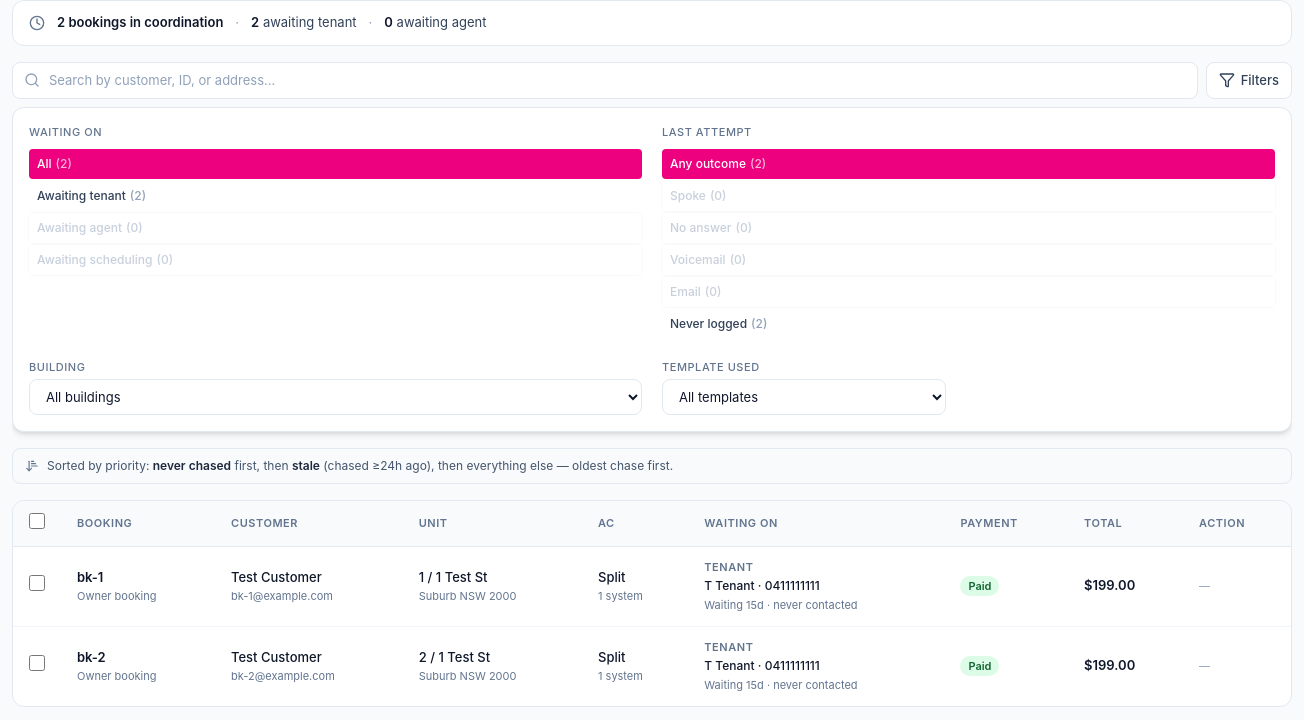
Test case: AwaitingCoordinationView · bulk template picker keyboard nav › Enter on the highlighted option commits the selection and syncs the hidden <select>
This screenshot has width=1304, height=720.
Click the checkbox with test id "checkbox-coordination-row-bk-1".
click(37, 583)  # box left=29, top=575, right=45, bottom=591
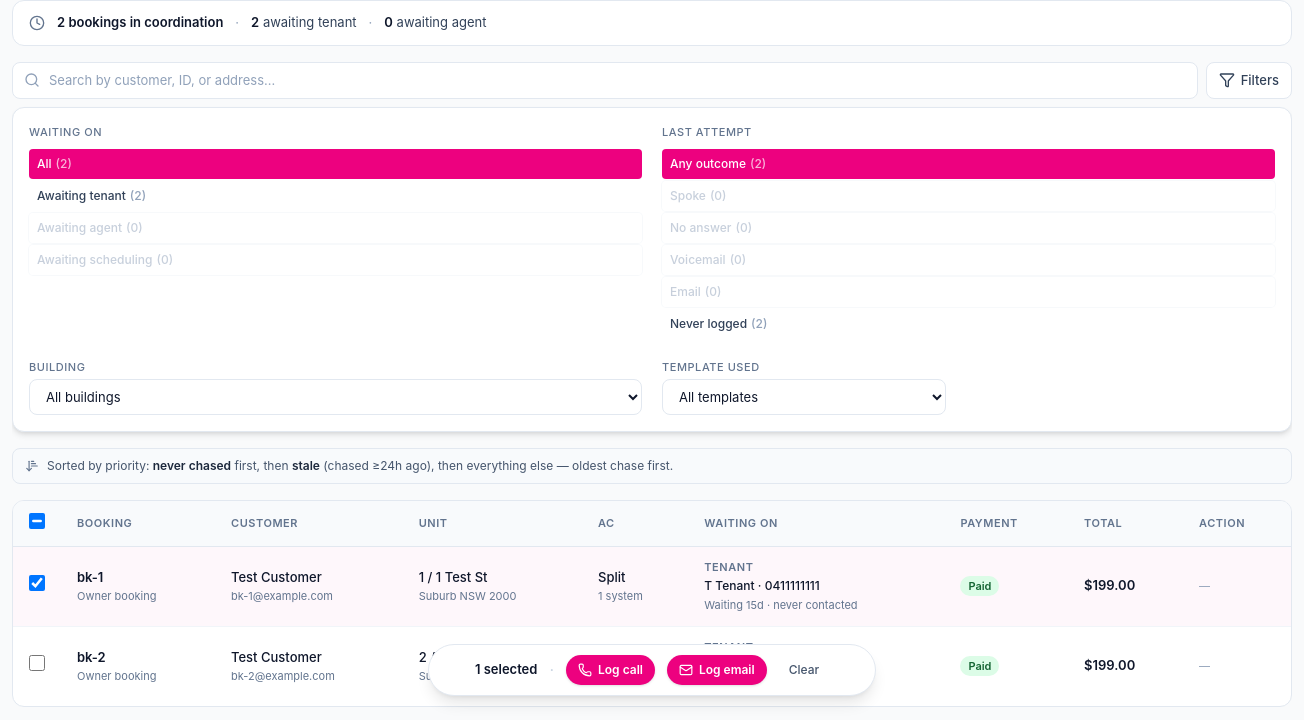
Click the checkbox with test id "checkbox-coordination-row-bk-2".
click(37, 663)  # box left=29, top=655, right=45, bottom=671
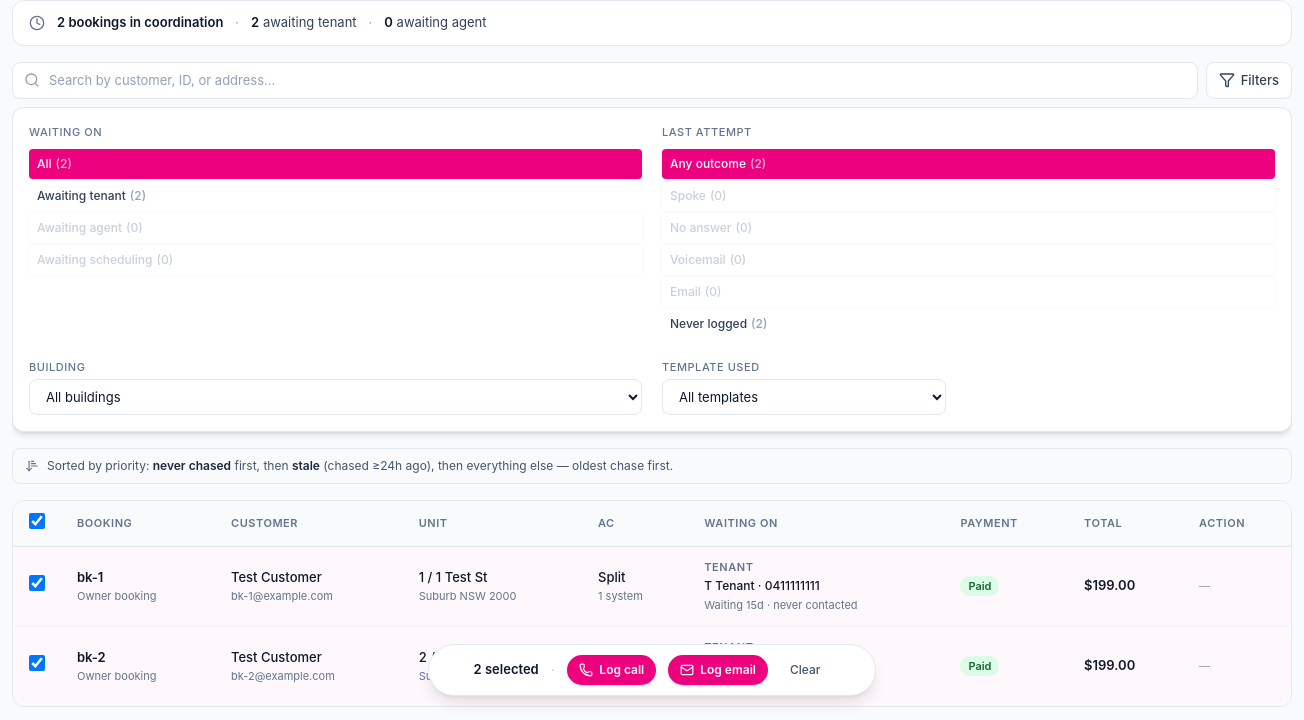
Click the button with test id "button-bulk-log-call".
click(612, 670)  # box left=567, top=655, right=656, bottom=685
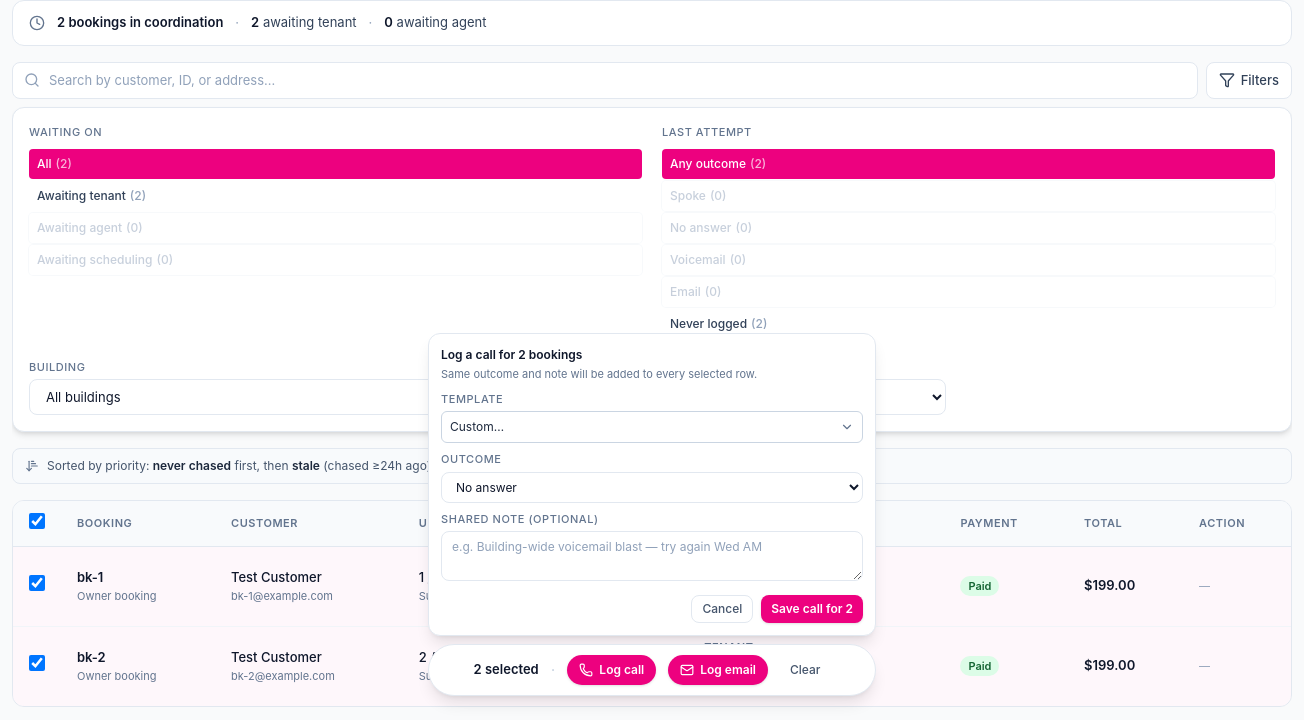
Press ArrowDown in the button with test id "trigger-bulk-call-template", box left=441, top=411, right=863, bottom=443
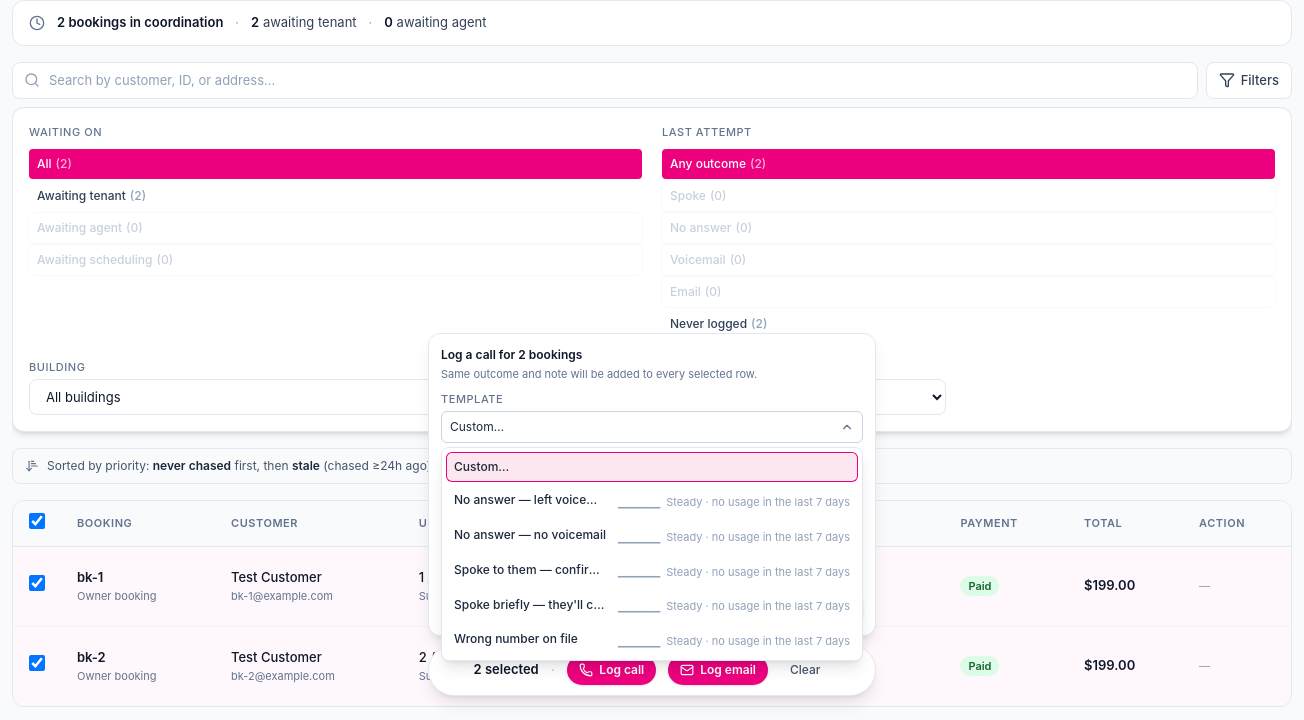
Press ArrowDown in the list with test id "option-bulk-call-template-listbox", box left=441, top=447, right=863, bottom=661
Press Enter in the list with test id "option-bulk-call-template-listbox", box left=441, top=447, right=863, bottom=661
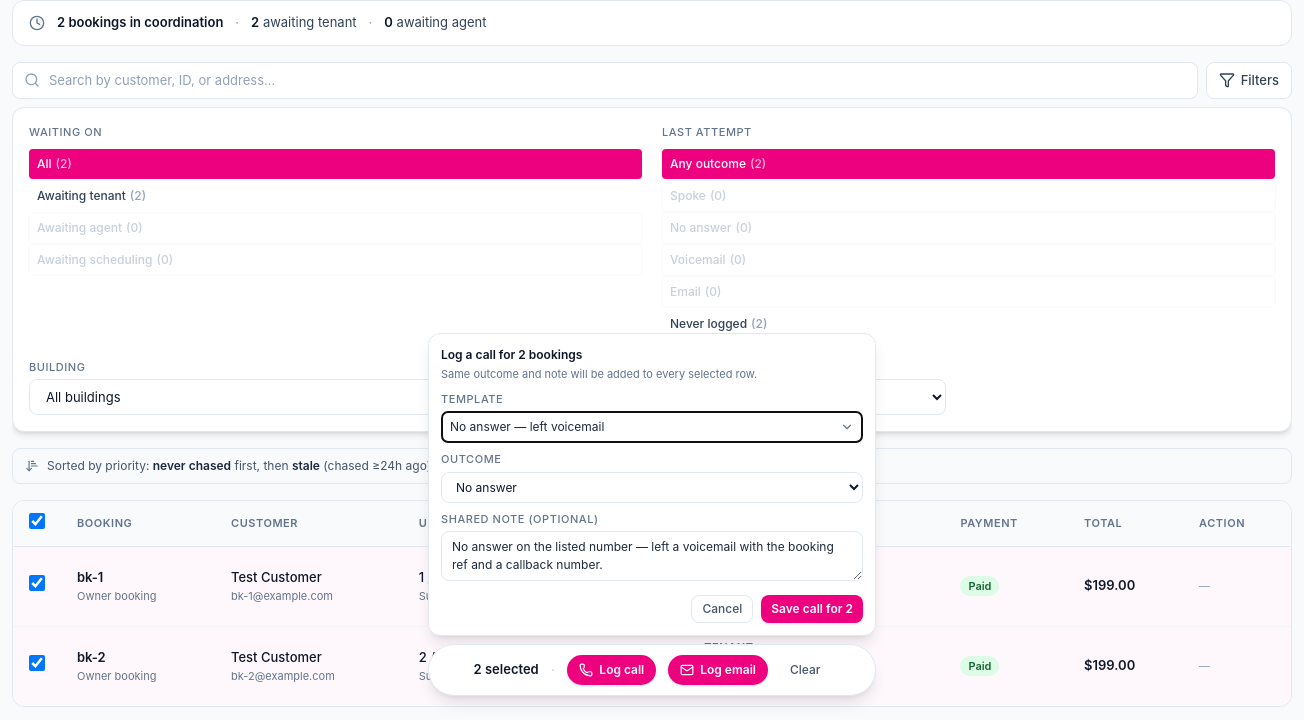
expect the label with test id "select-bulk-call-template" holds "voicemail_left": met, box left=441, top=392, right=503, bottom=406
expect the label with test id "select-bulk-call-template" does not hold "custom": met, box left=441, top=392, right=503, bottom=406
expect the list with test id "option-bulk-call-template-listbox" is gone: met
